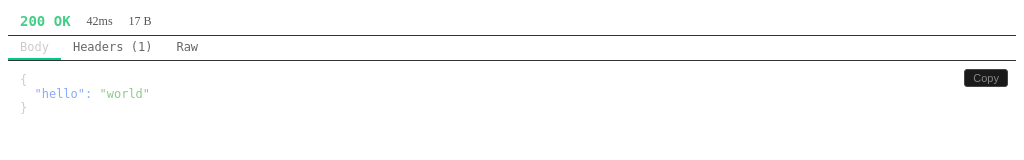
Test: ResponseViewer › switches to Raw tab
Click the button "Raw" at point(187, 48), box [164,36,210,60]
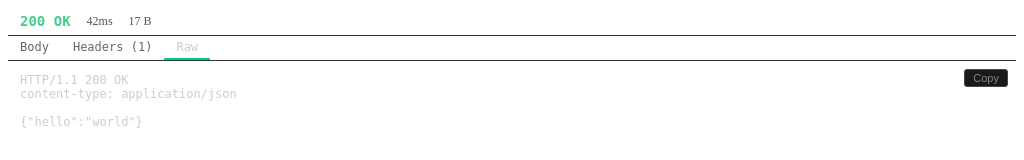
Expected: the text "HTTP/1.1 200 OK" is shown, [20,73,237,129]
